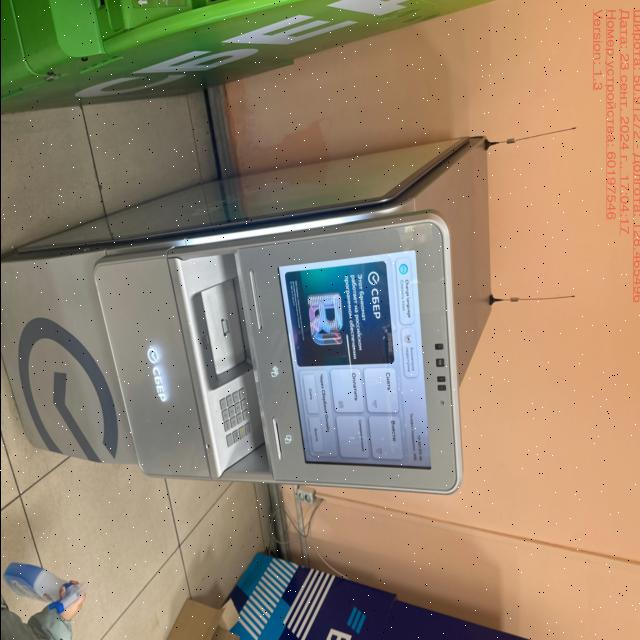bank: (0, 128, 502, 508), (1, 0, 507, 113)
